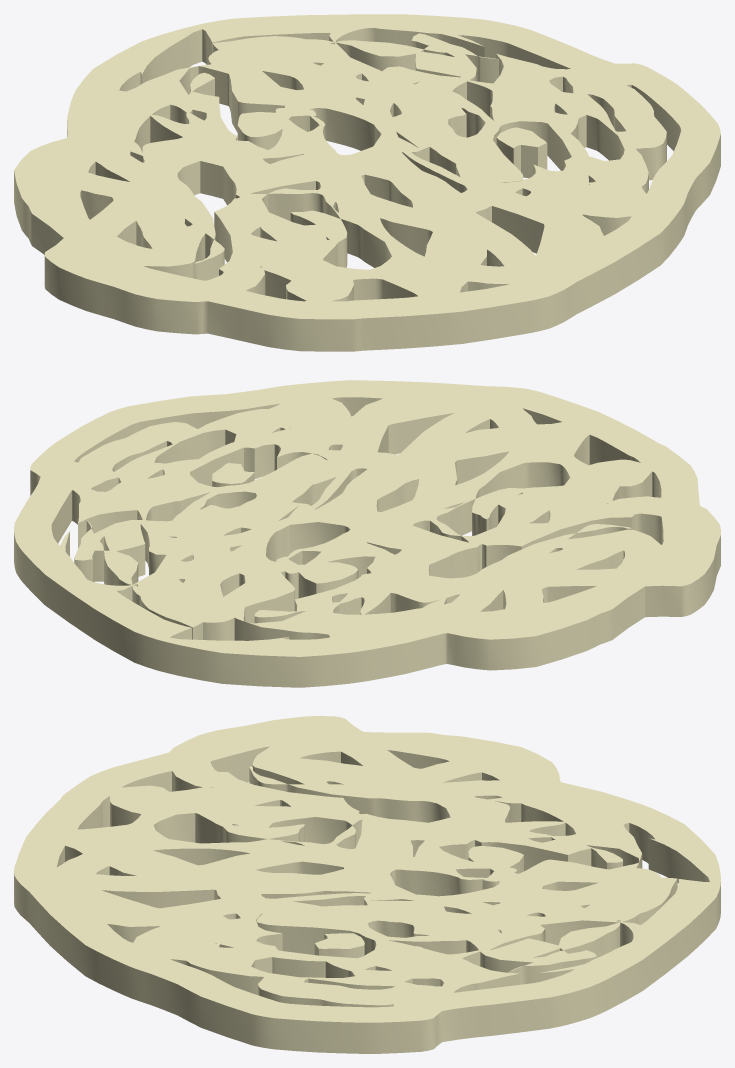
The model's file is noodle-hk93XlfM.glb.
The picture shows the model from 3 angles, top to bottom: view 1: azimuth 30°, elevation 25°; view 2: azimuth 150°, elevation 25°; view 3: azimuth 270°, elevation 25°; orthographic projection. The views are drawn at different scales.
Parts seen in each view (by area): view 1: Object_6; view 2: Object_6; view 3: Object_6.
Part boxes in pixels (x1=…): Object_6: x1=14, y1=14, x2=720, y2=351; Object_6: x1=14, y1=380, x2=720, y2=687; Object_6: x1=14, y1=716, x2=720, y2=1053.
Size of the model in its own units: 1.15 by 0.0547 by 1.12.
